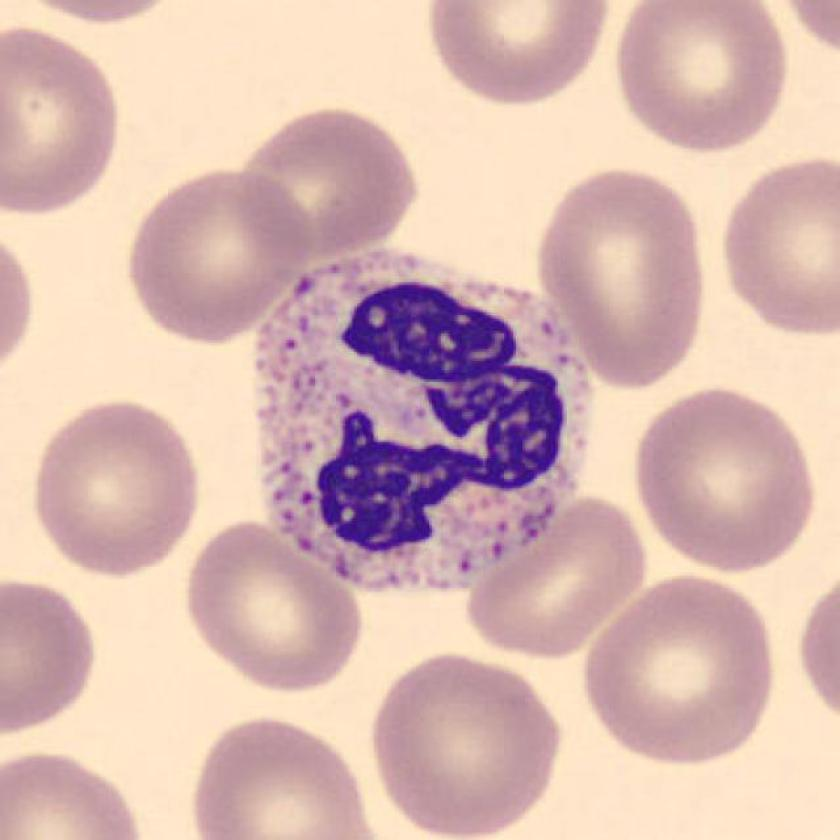neutrophil: (253, 253, 592, 592)
